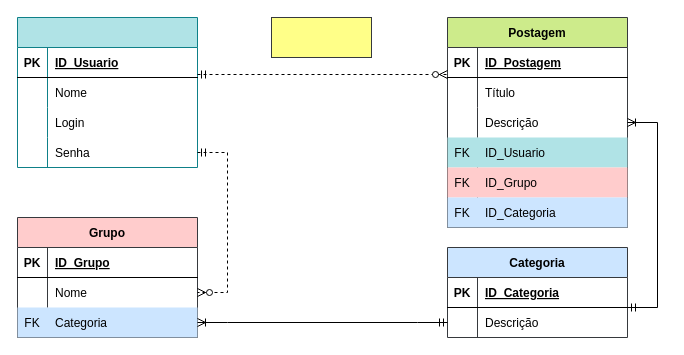
This 684x355 diagram has some shape labels left out. The box of each missing label's shape, as (x1, y1, x2, y2) in pixels:
REDE SOCIAL: (270, 16, 372, 58)
Usuário: (16, 16, 198, 168)
